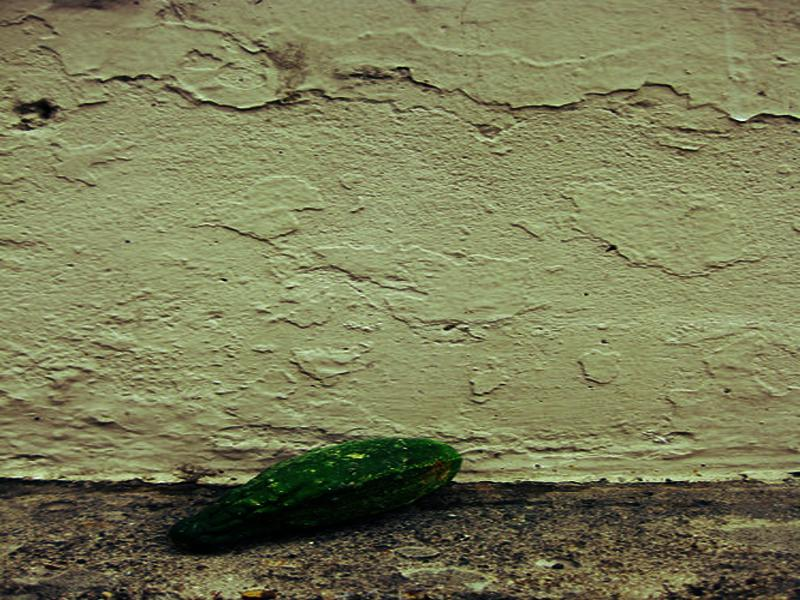Cucumber: (173, 437, 461, 550)
